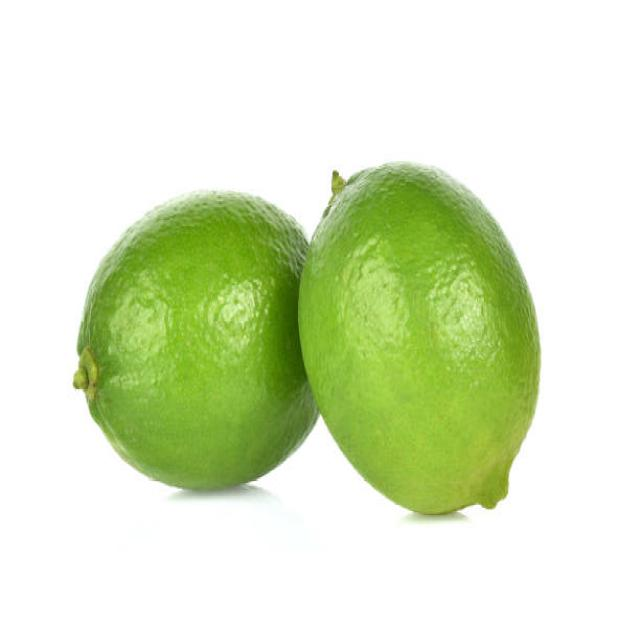Unripe: (296, 158, 541, 514), (78, 187, 318, 489)
